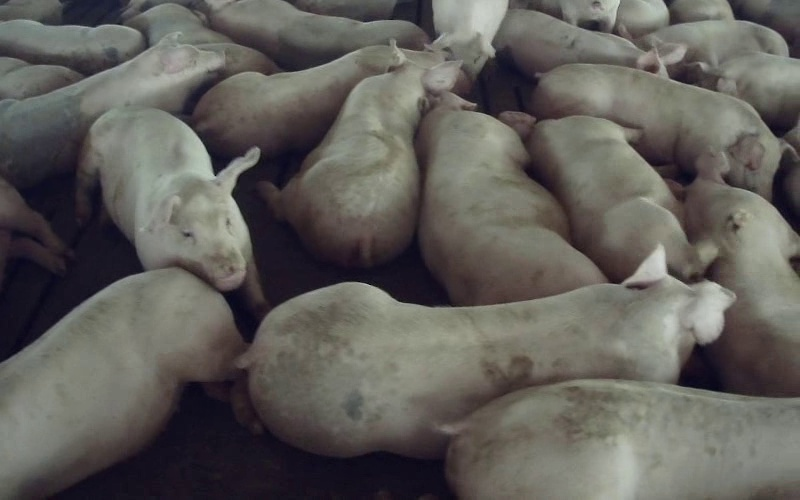pig: (238, 246, 734, 457), (0, 268, 244, 499), (260, 47, 459, 266), (446, 380, 799, 499), (78, 108, 267, 314), (531, 64, 799, 199), (0, 32, 224, 187), (500, 113, 705, 281), (668, 151, 799, 395), (192, 45, 390, 156), (210, 0, 428, 70), (493, 9, 686, 76), (125, 3, 279, 78), (675, 53, 799, 133), (432, 0, 507, 80)
